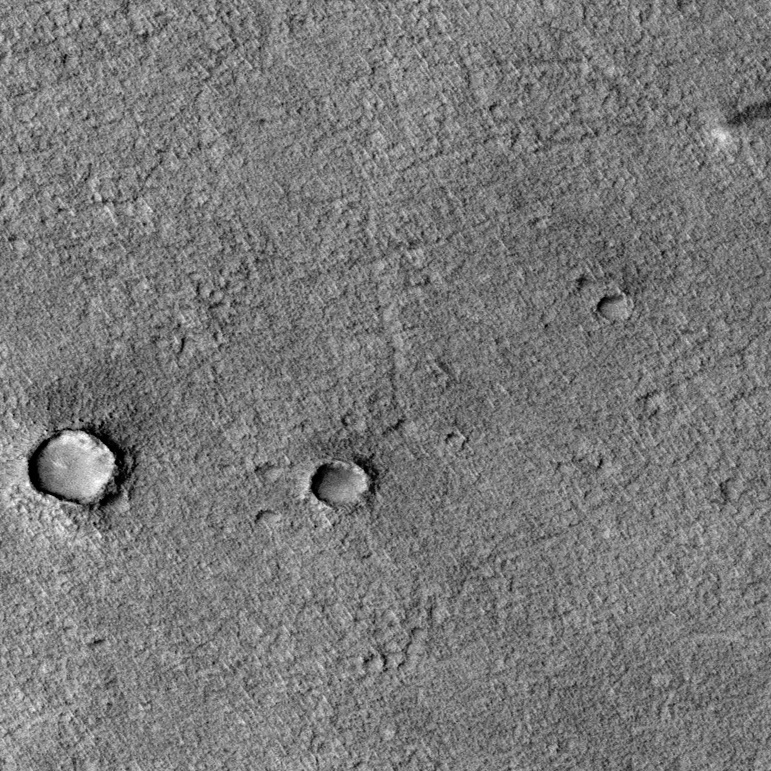dust_devil: (702, 95, 771, 151)
